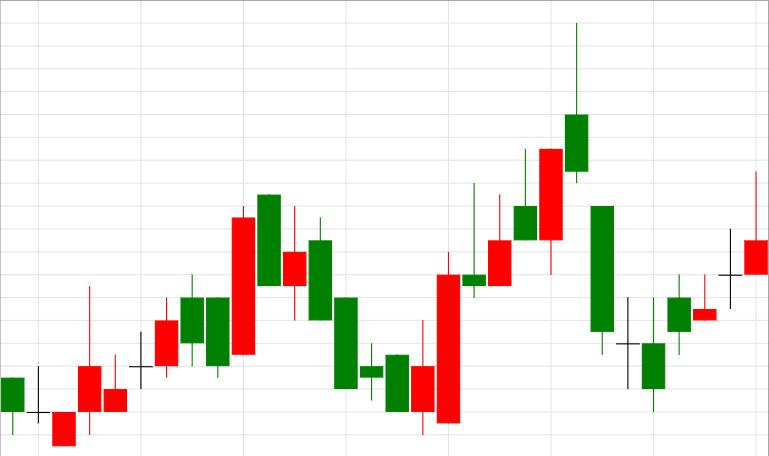shooting_star_fall: (411, 23, 588, 434)
